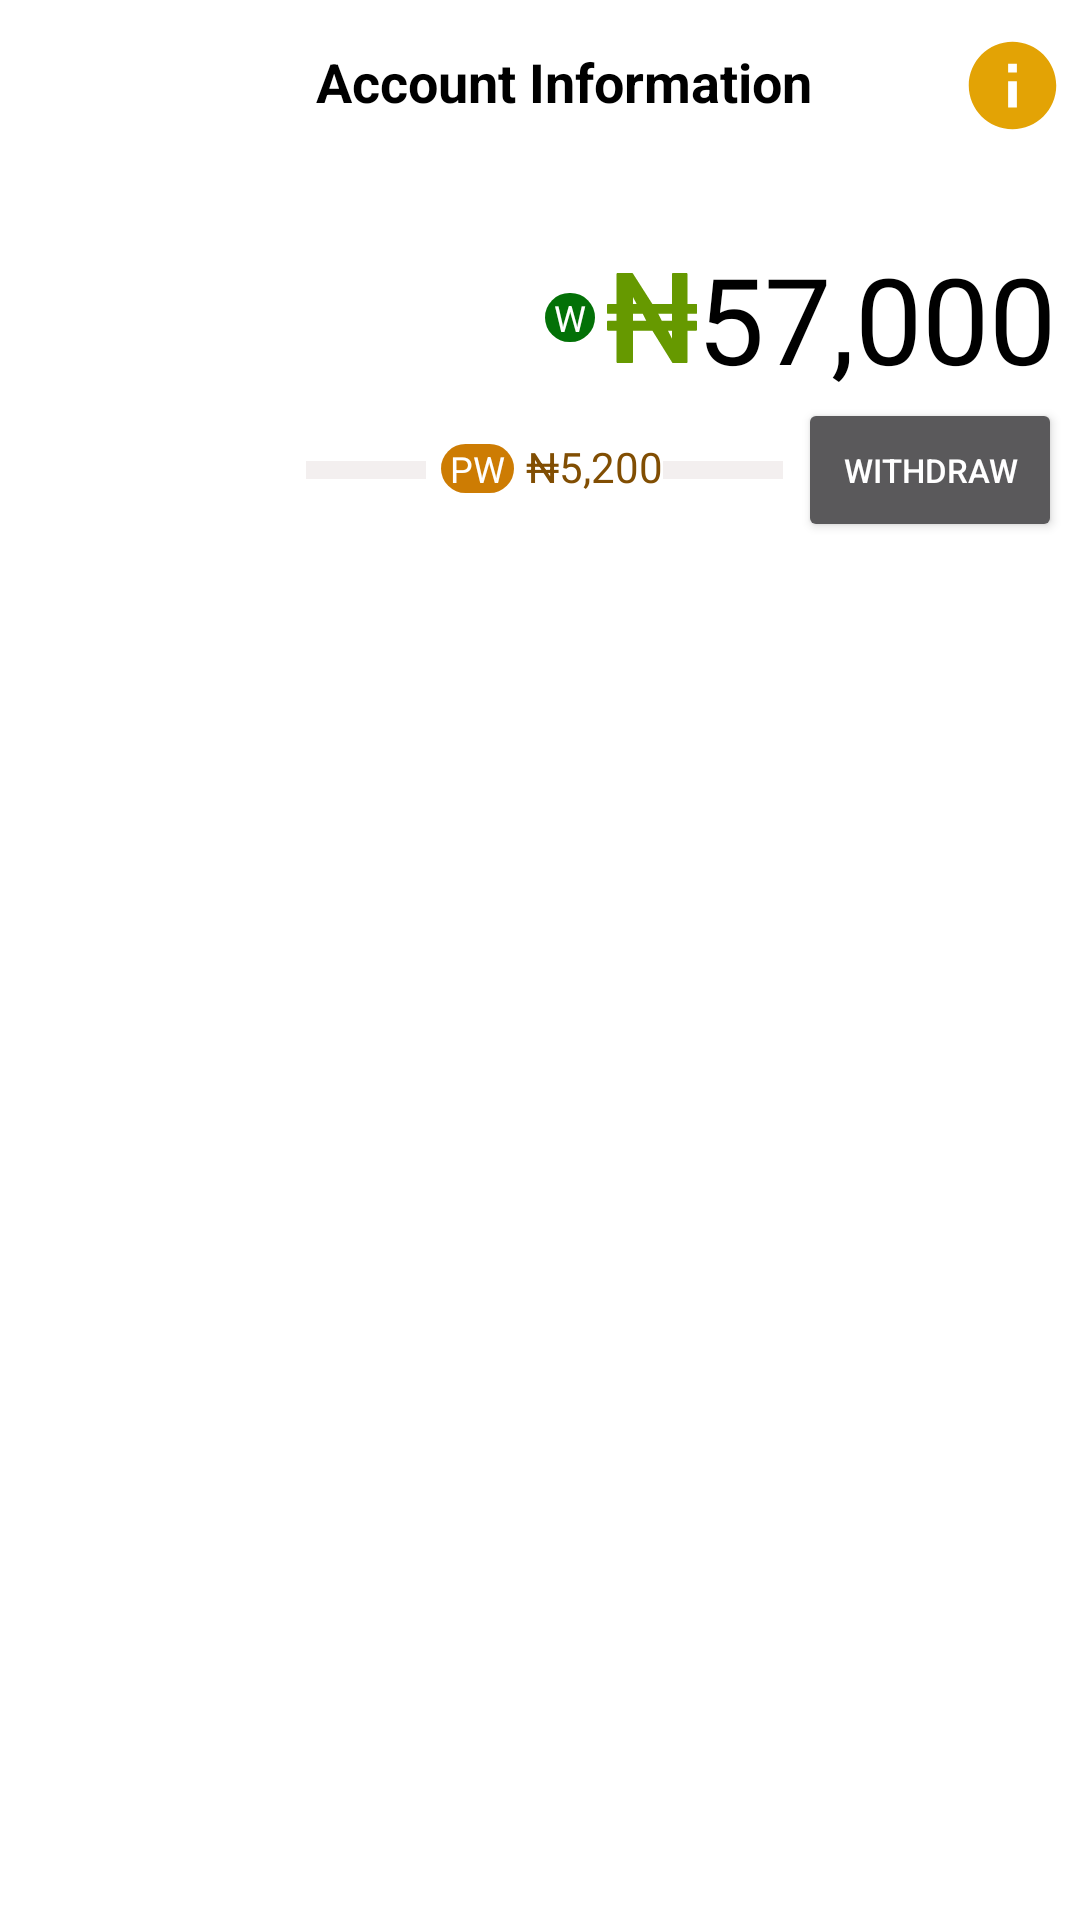

Where to tap for icons on this 1080x1920 app screen, as (x,y):
naira: (652,318)
